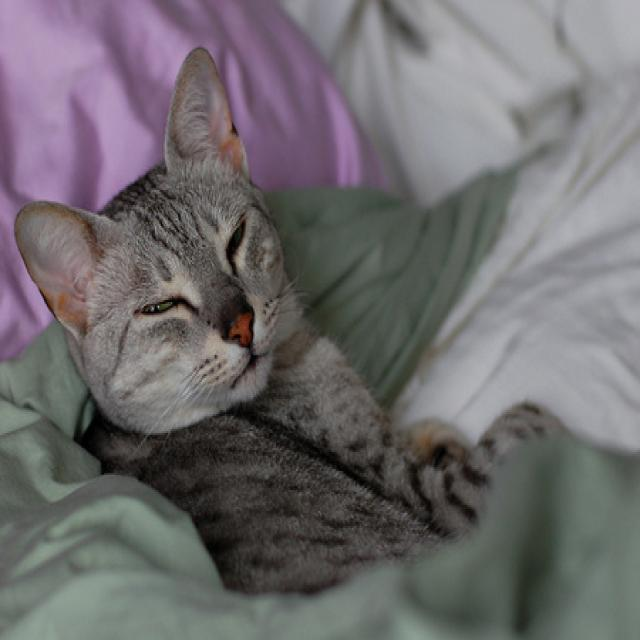Egyptian Mau: (13, 42, 585, 594)
